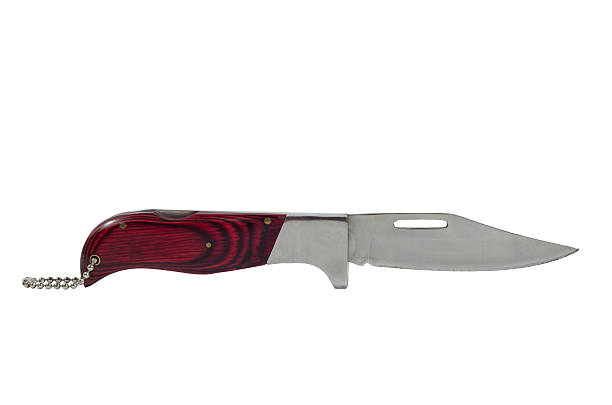knife: (77, 206, 581, 292)
